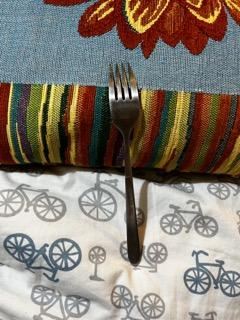fork: (106, 59, 145, 268)
